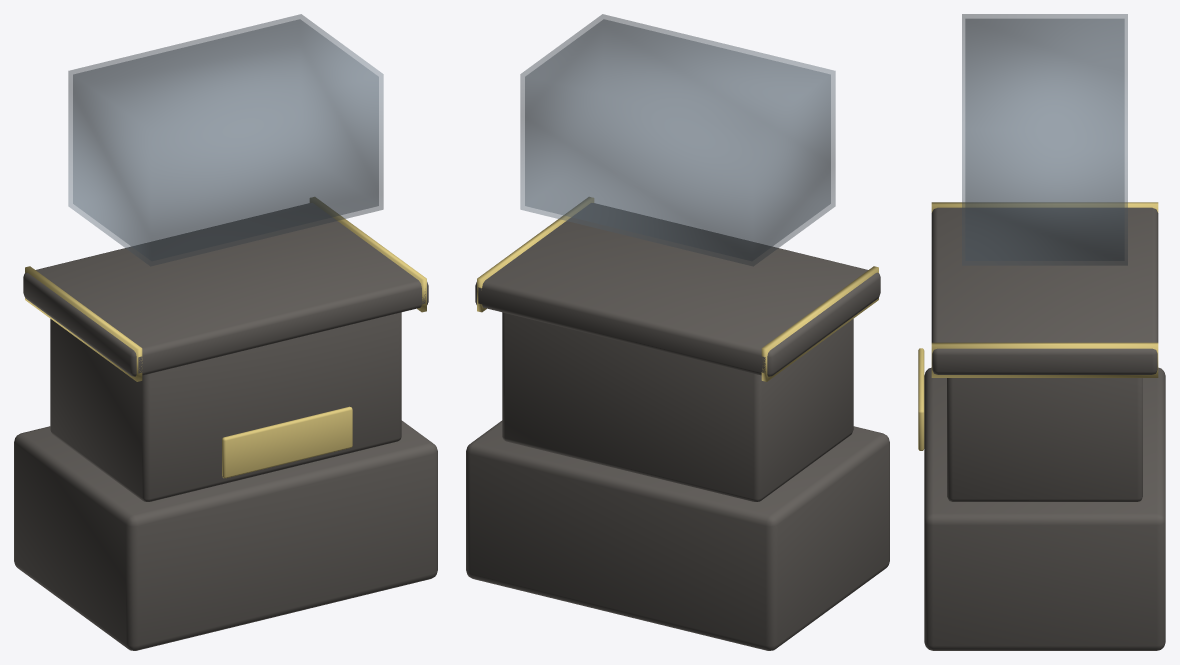
Rendered from museum_display_case.glb.
3 views of the same model, side by side, from view 1: azimuth 30°, elevation 25°; view 2: azimuth 150°, elevation 25°; view 3: azimuth 270°, elevation 25° (orthographic).
Parts seen in each view (by area): view 1: MuseumDisplayCase; view 2: MuseumDisplayCase; view 3: MuseumDisplayCase.
Part boxes in pixels (box(x1,y1,x2,y2)): MuseumDisplayCase: box(14, 14, 437, 650); MuseumDisplayCase: box(466, 14, 889, 650); MuseumDisplayCase: box(918, 14, 1165, 650).
Bounding box in the file's own units: 1.2 × 1.85 × 0.82.
